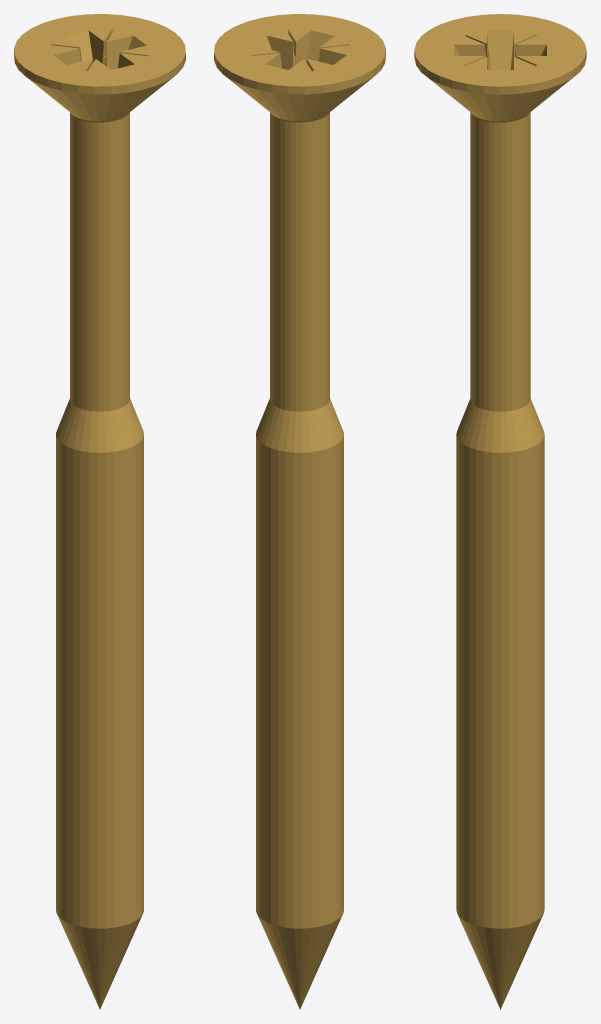
The model's file is model_display.glb.
3 views of the same model, side by side, from view 1: azimuth 30°, elevation 25°; view 2: azimuth 150°, elevation 25°; view 3: azimuth 270°, elevation 25° (orthographic).
Parts seen in each view (by area): view 1: geometry_0; view 2: geometry_0; view 3: geometry_0.
Boxes of the visible parts, <box> form: geometry_0: <box>14,14,185,1009</box>; geometry_0: <box>214,14,385,1009</box>; geometry_0: <box>414,14,586,1009</box>.
Bounding box in the file's own units: 0.00975 × 0.06 × 0.00975.
